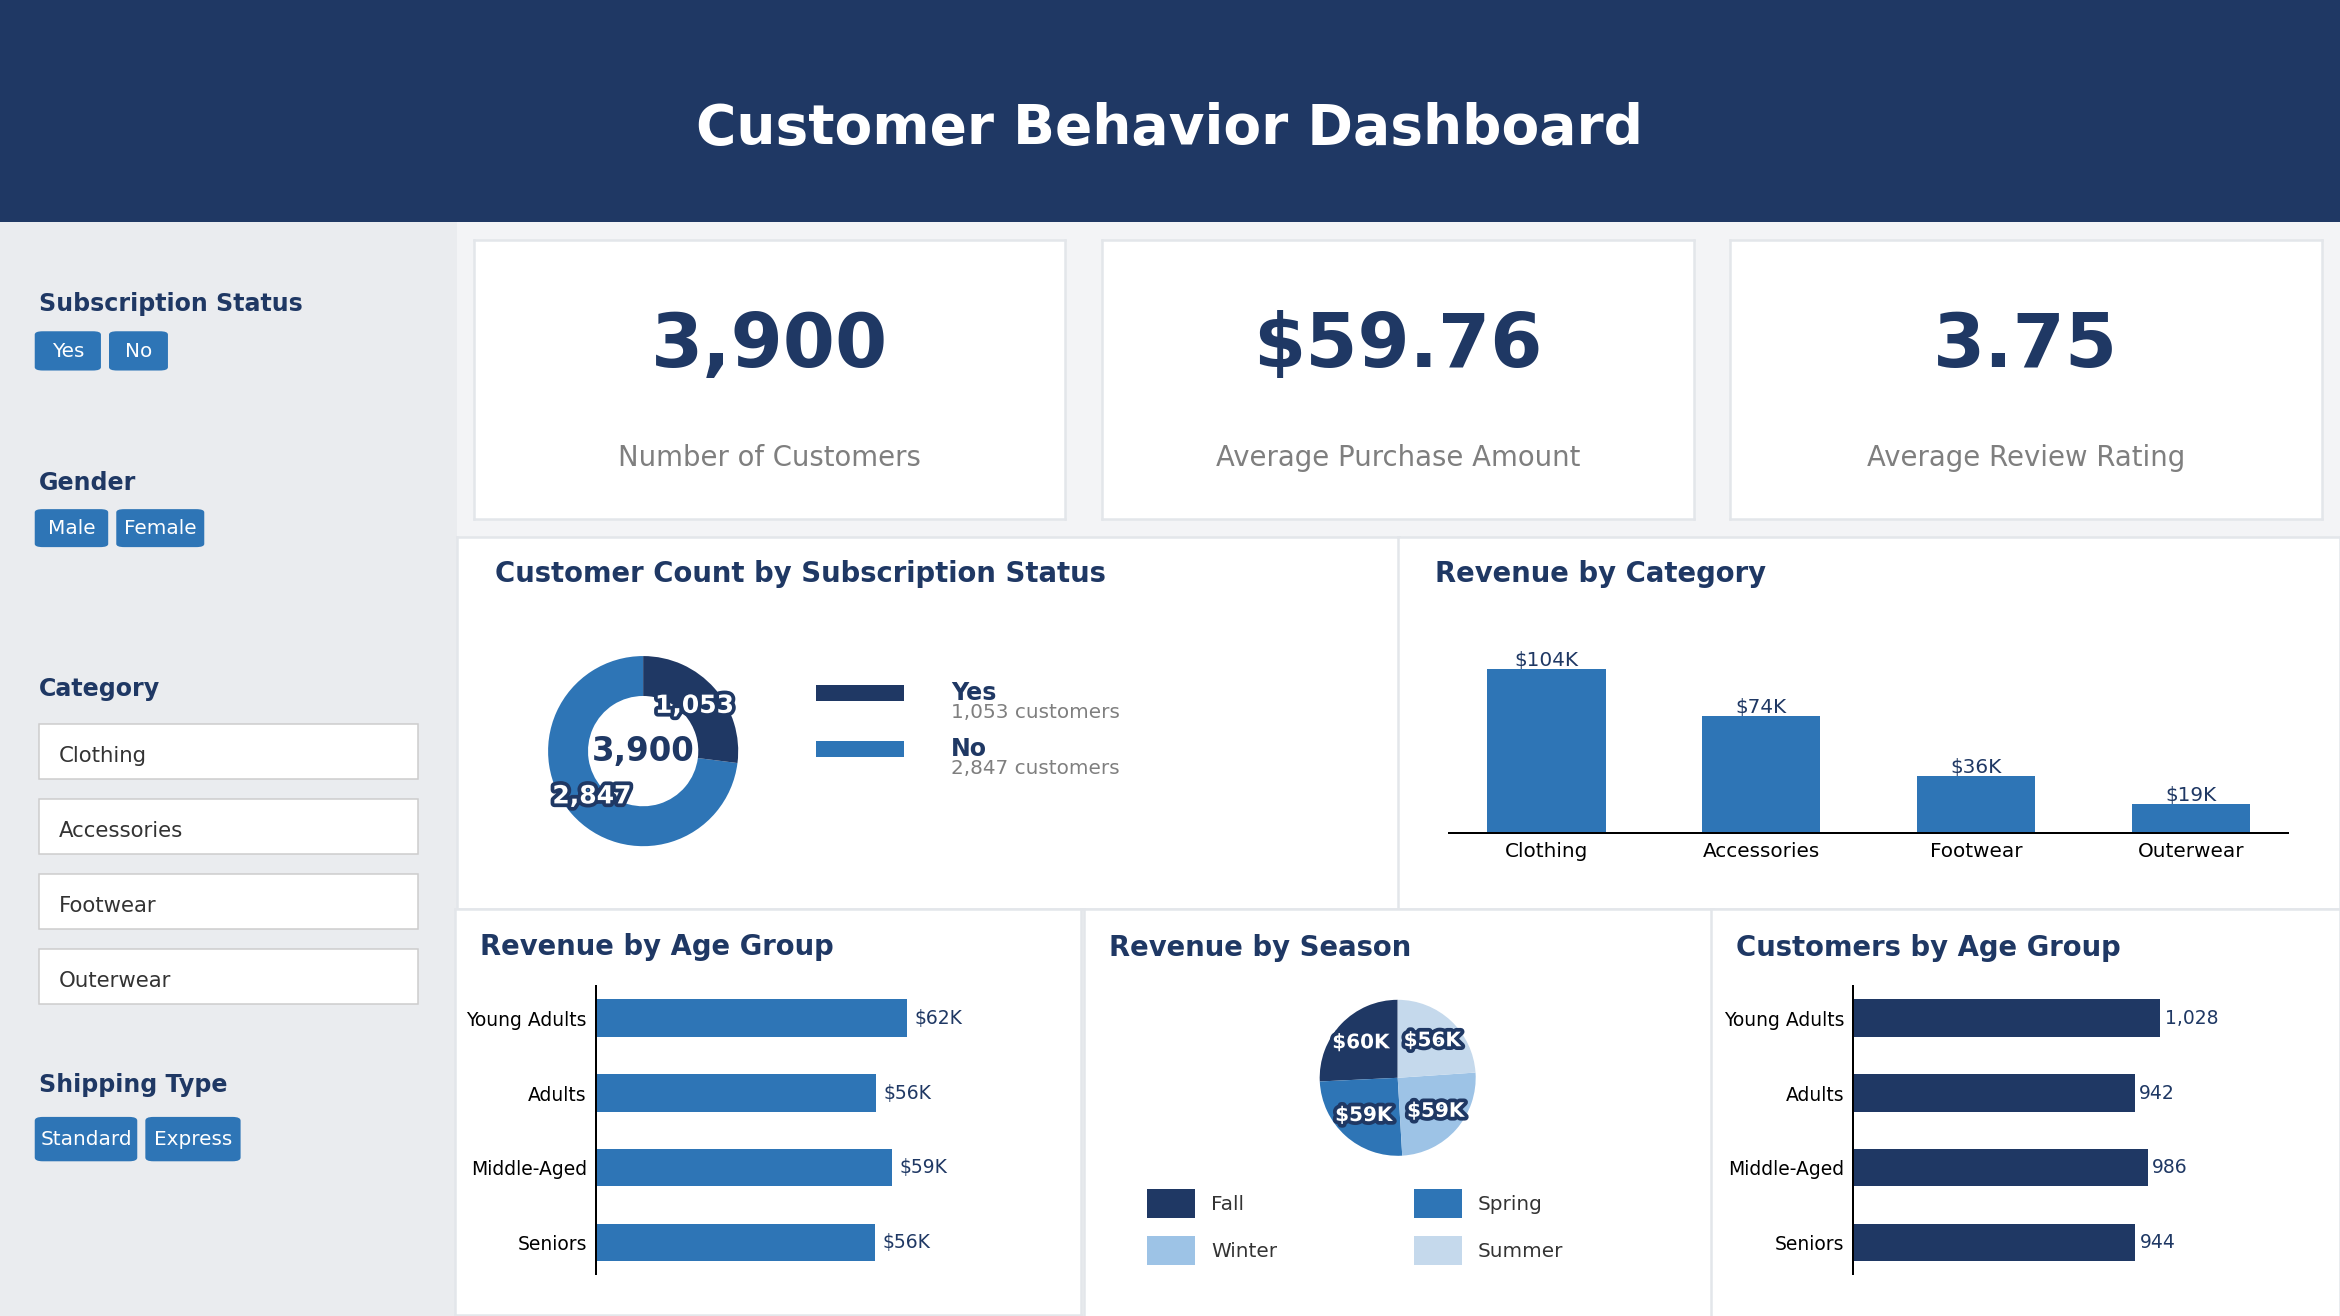

Layout of this report page (visuals, bound fields, positions):
{"tool":"powerbi","page":{"name":"Page 1","canvas":[1920,1080],"ordinal":0},"visuals":[{"type":"cardVisual","fields":{"Data":["customer_shopping_behavior.Number of Customers","customer_shopping_behavior.Average Purchase Amount","customer_shopping_behavior.Average Review Rating"]},"box":[373.7,182.5,1546.3,258.7],"z":0},{"type":"shape","box":[0,0,1920,182.4],"z":1000},{"type":"textbox","box":[0,61.3,1920,121.1],"z":2000},{"type":"shape","box":[375.1,441.2,773.2,304.7],"z":3000},{"type":"donutChart","title":"% of Customers By Subscription Status","fields":{"Category":["customer_shopping_behavior.subscription_status"],"Y":["CountNonNull(customer_shopping_behavior.customer_id)"]},"box":[395.2,457,732.9,271.6],"z":4000},{"type":"shape","box":[1146.8,441.2,773.2,304.7],"z":5000},{"type":"clusteredColumnChart","title":"Revenue by Category","fields":{"Category":["customer_shopping_behavior.category"],"Y":["Sum(customer_shopping_behavior.purchase_amount)"]},"box":[1174.1,461.3,718.6,267.3],"z":6000},{"type":"shape","box":[0,182.4,375,897.3],"z":7000},{"type":"advancedSlicerVisual","title":"Subscription Status","fields":{"Values":["customer_shopping_behavior.subscription_status"]},"box":[21.9,229.1,331.2,134.2],"z":8000},{"type":"advancedSlicerVisual","title":"Gender","fields":{"Values":["customer_shopping_behavior.gender"]},"box":[21.9,376.4,331.2,129.8],"z":9000},{"type":"advancedSlicerVisual","title":"Category","fields":{"Values":["customer_shopping_behavior.category"]},"box":[21.9,529.6,331.2,323.9],"z":10000},{"type":"listSlicer","title":"Shipping Type","fields":{"Values":["customer_shopping_behavior.shipping_type"]},"box":[21.9,868.1,331.2,151.7],"z":11000},{"type":"shape","box":[373.7,745.9,513.1,333.4],"z":12000},{"type":"shape","box":[889.6,745.9,515.9,334.9],"z":13000},{"type":"clusteredBarChart","title":"Revenue by Age Group","fields":{"Category":["customer_shopping_behavior.age_group"],"Y":["Sum(customer_shopping_behavior.purchase_amount)"]},"box":[393.8,764.6,472.8,296],"z":14000},{"type":"shape","box":[1404.1,745.9,515.9,334.9],"z":15000},{"type":"clusteredBarChart","title":"Sales by Age Group","fields":{"Category":["customer_shopping_behavior.age_group"],"Y":["customer_shopping_behavior.Number of Customers"]},"box":[1425.6,764.6,472.8,296],"z":15001},{"type":"pieChart","title":"Revenue by Season","fields":{"Category":["customer_shopping_behavior.season"],"Y":["Sum(customer_shopping_behavior.purchase_amount)"]},"box":[908.3,764.6,477.1,297.5],"z":15002}]}

Visuals, with their boxes in screenshot pixels (x1, y1, x2, y2), scaled from the page's 1920x1080 canvas onto the 2340x1316 screenshot:
cardVisual - customer_shopping_behavior.Number of Customers x customer_shopping_behavior.Average Purchase Amount: l=455, t=222, r=2339, b=538
shape: l=0, t=0, r=2339, b=222
textbox: l=0, t=75, r=2339, b=222
shape: l=457, t=538, r=1399, b=909
"% of Customers By Subscription Status" donutChart: l=482, t=557, r=1375, b=888
shape: l=1398, t=538, r=2339, b=909
"Revenue by Category" clusteredColumnChart: l=1431, t=562, r=2307, b=888
shape: l=0, t=222, r=457, b=1315
"Subscription Status" advancedSlicerVisual: l=27, t=279, r=430, b=443
"Gender" advancedSlicerVisual: l=27, t=459, r=430, b=617
"Category" advancedSlicerVisual: l=27, t=645, r=430, b=1040
"Shipping Type" listSlicer: l=27, t=1058, r=430, b=1243
shape: l=455, t=909, r=1081, b=1315
shape: l=1084, t=909, r=1713, b=1315
"Revenue by Age Group" clusteredBarChart: l=480, t=932, r=1056, b=1292
shape: l=1711, t=909, r=2339, b=1315
"Sales by Age Group" clusteredBarChart: l=1737, t=932, r=2314, b=1292
"Revenue by Season" pieChart: l=1107, t=932, r=1688, b=1294
